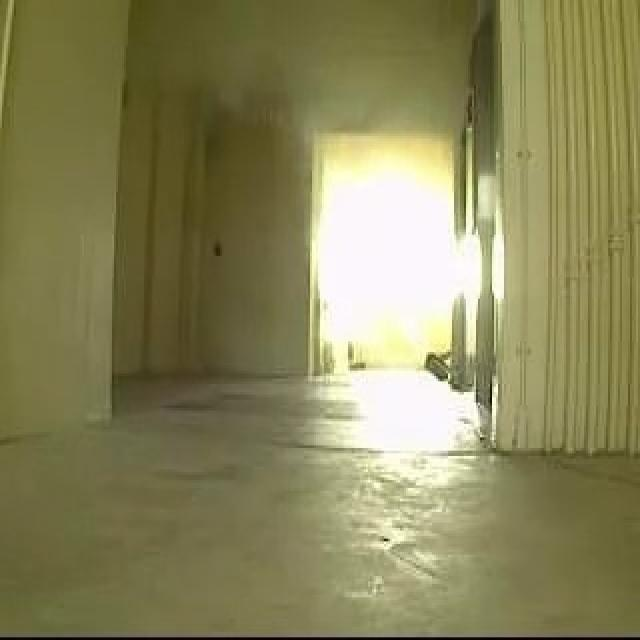Smoke: (151, 10, 355, 154)
